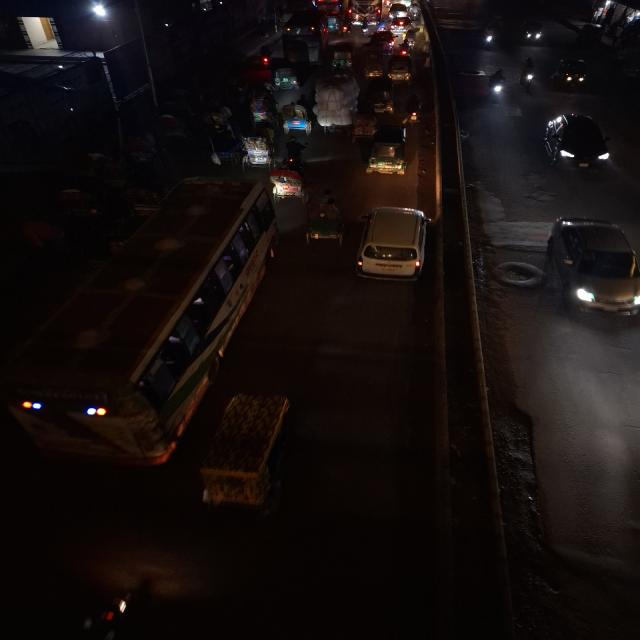bus: (0, 168, 286, 474)
car: (543, 214, 640, 318), (353, 203, 437, 287), (538, 109, 614, 177)
cng: (363, 122, 415, 182), (549, 55, 595, 95), (366, 76, 398, 116), (270, 56, 305, 92), (386, 51, 414, 86), (331, 40, 357, 73), (520, 19, 546, 45)
motorcycle: (483, 66, 515, 110), (403, 91, 428, 128), (518, 56, 540, 95), (359, 16, 371, 39)
rickshaw: (190, 390, 302, 522), (301, 191, 347, 249), (271, 157, 309, 208), (233, 130, 277, 168), (282, 94, 314, 139), (318, 120, 353, 142)
